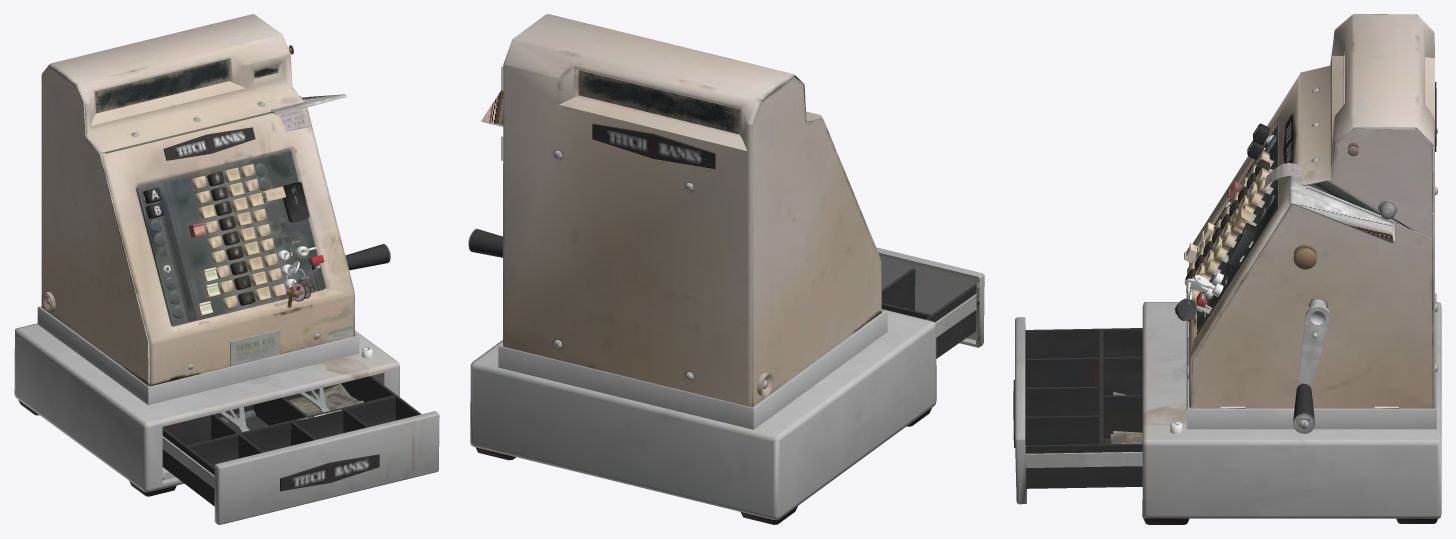
The model's file is cashregister_01.glb.
3 views of the same model, side by side, from view 1: azimuth 30°, elevation 25°; view 2: azimuth 150°, elevation 25°; view 3: azimuth 270°, elevation 25° (orthographic). The views are drawn at different scales.
Parts seen in each view (by area): view 1: CashRegister_01_body; view 2: CashRegister_01_body; view 3: CashRegister_01_body.
Part boxes in pixels (bbox=[...]): CashRegister_01_body: bbox=[14, 14, 439, 524]; CashRegister_01_body: bbox=[468, 14, 984, 524]; CashRegister_01_body: bbox=[1013, 14, 1441, 524].
Size of the model in its own units: 0.6005 by 0.6212 by 0.6242.
Materials: 2 (2 with a texture image).
